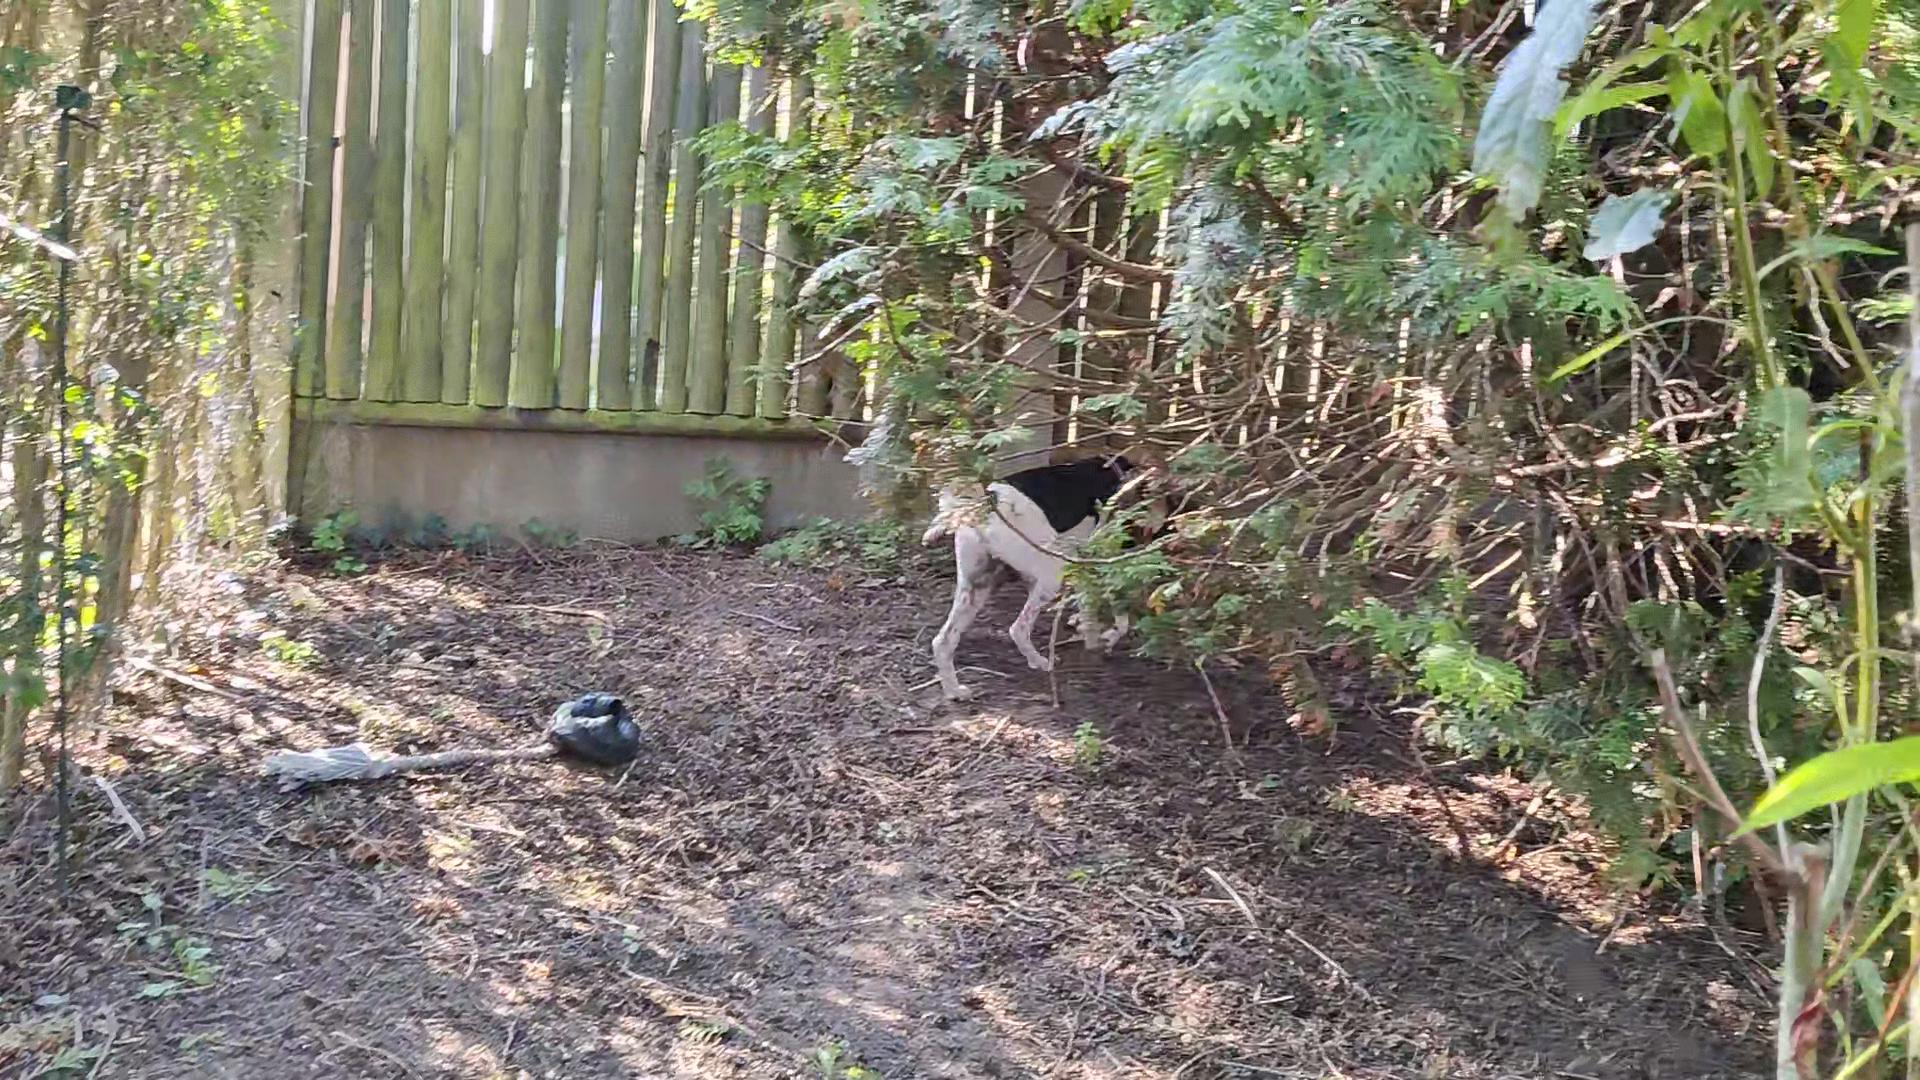Dog: (928, 440, 1207, 702)
